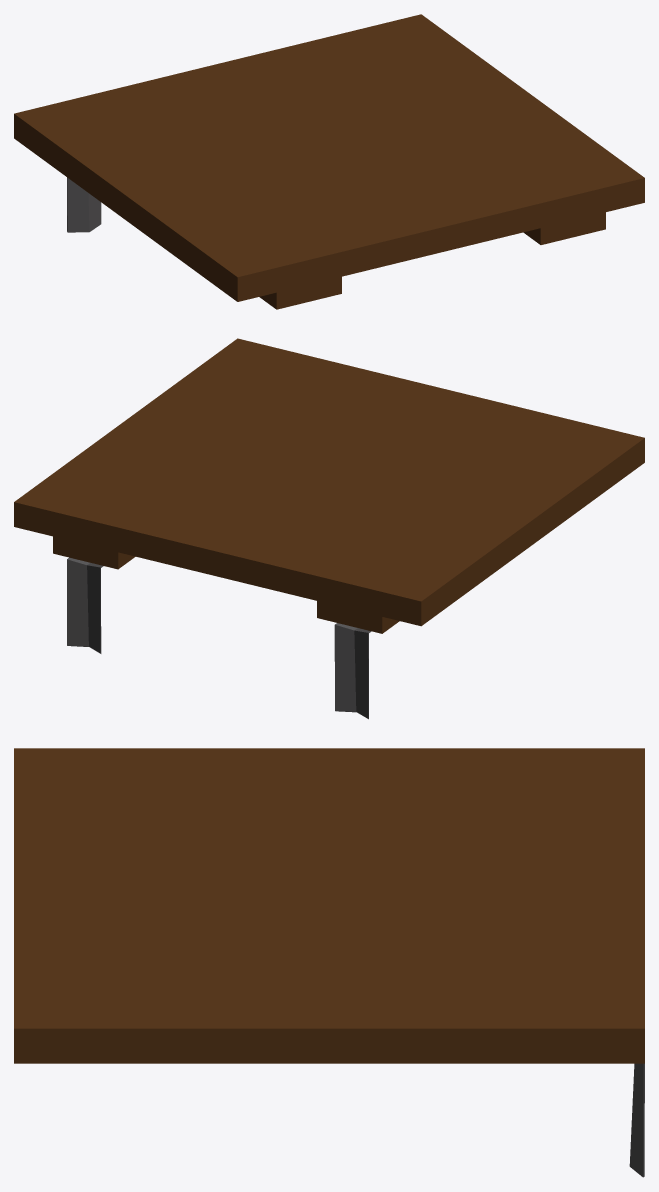
The model's file is Estante.fbx.
3 renders of one model, top to bottom at view 1: azimuth 30°, elevation 25°; view 2: azimuth 150°, elevation 25°; view 3: azimuth 270°, elevation 25°, orthographic. The views are drawn at different scales.
Parts seen in each view (by area): view 1: Estante; view 2: Estante; view 3: Estante.
Boxes of the visible parts, x1,y1,x2,y2 form: Estante: (14,14,644,309); Estante: (14,338,644,719); Estante: (14,748,644,1177).
Bounding box in the file's own units: 263 × 81.3 × 250.
